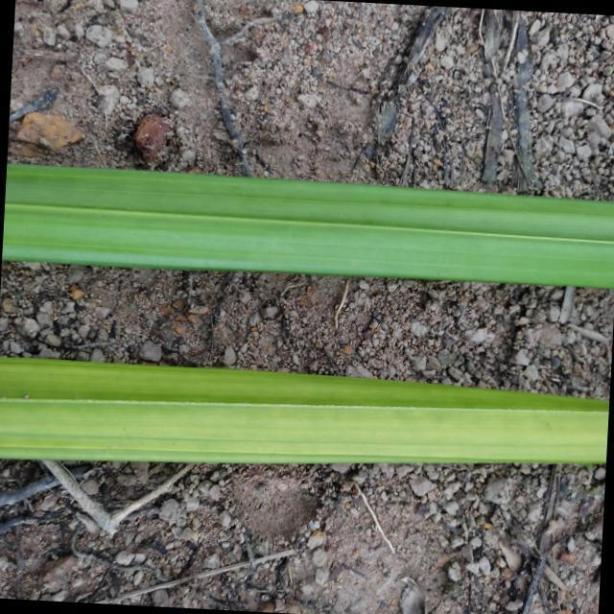nitrogen: (0, 162, 614, 290), (0, 358, 612, 468)
